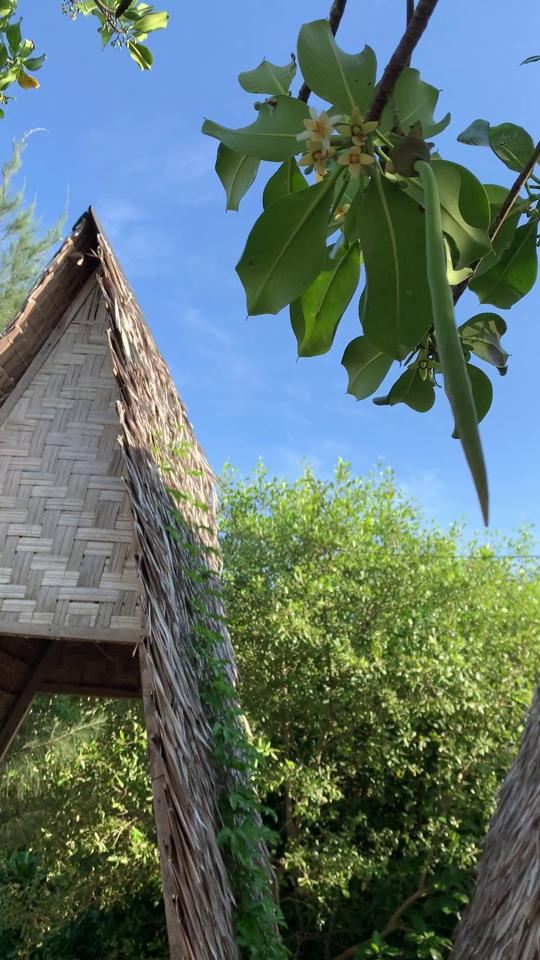mentah: (372, 119, 513, 533)
